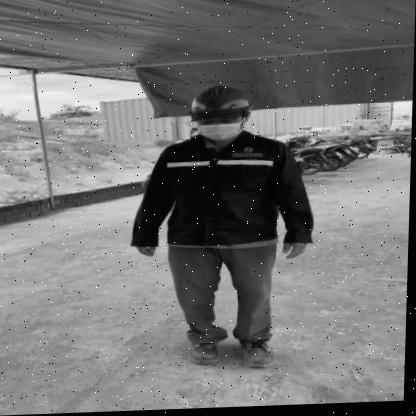person: (120, 80, 320, 376)
